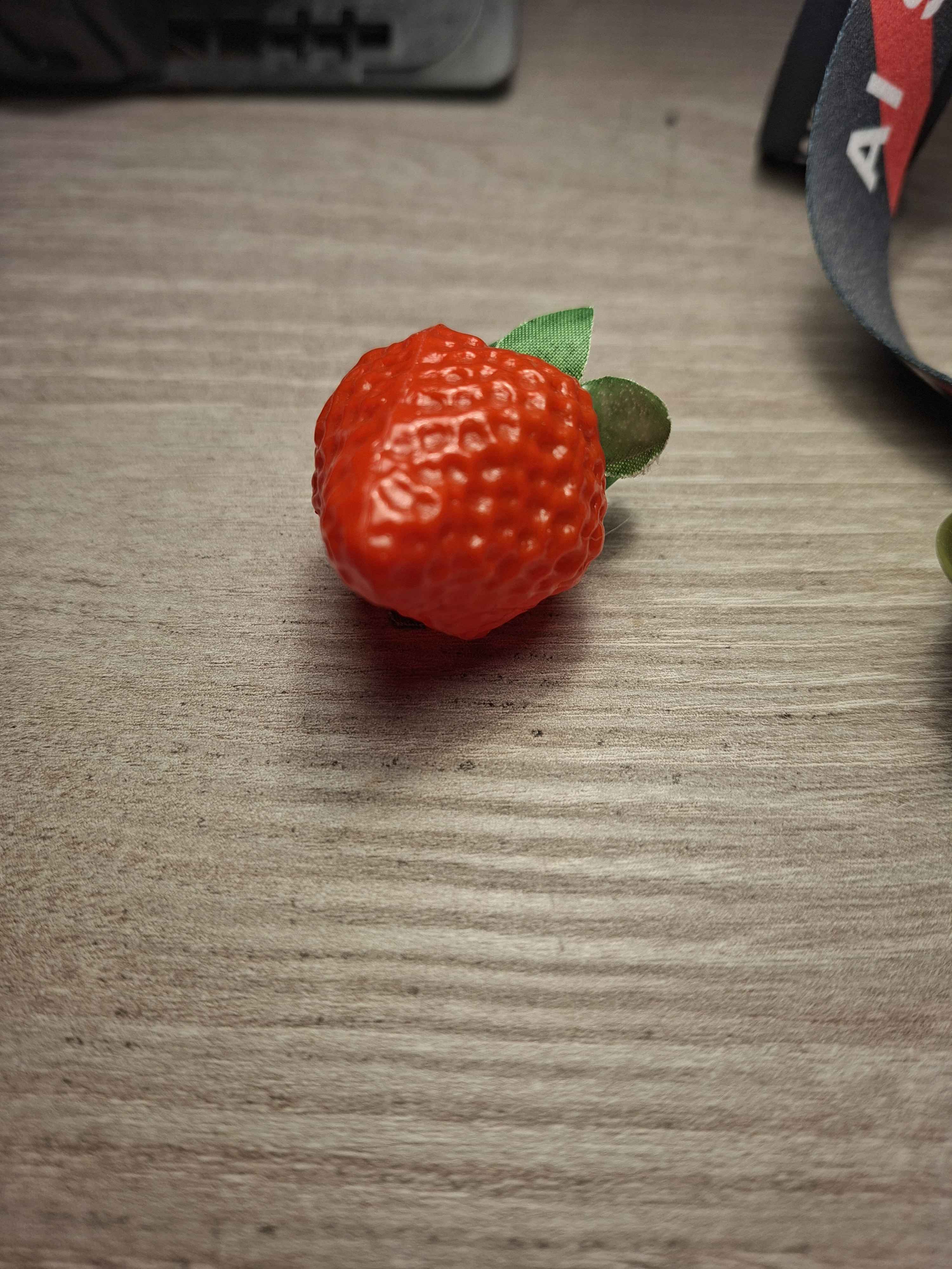Strawberry: (294, 314, 628, 658)
